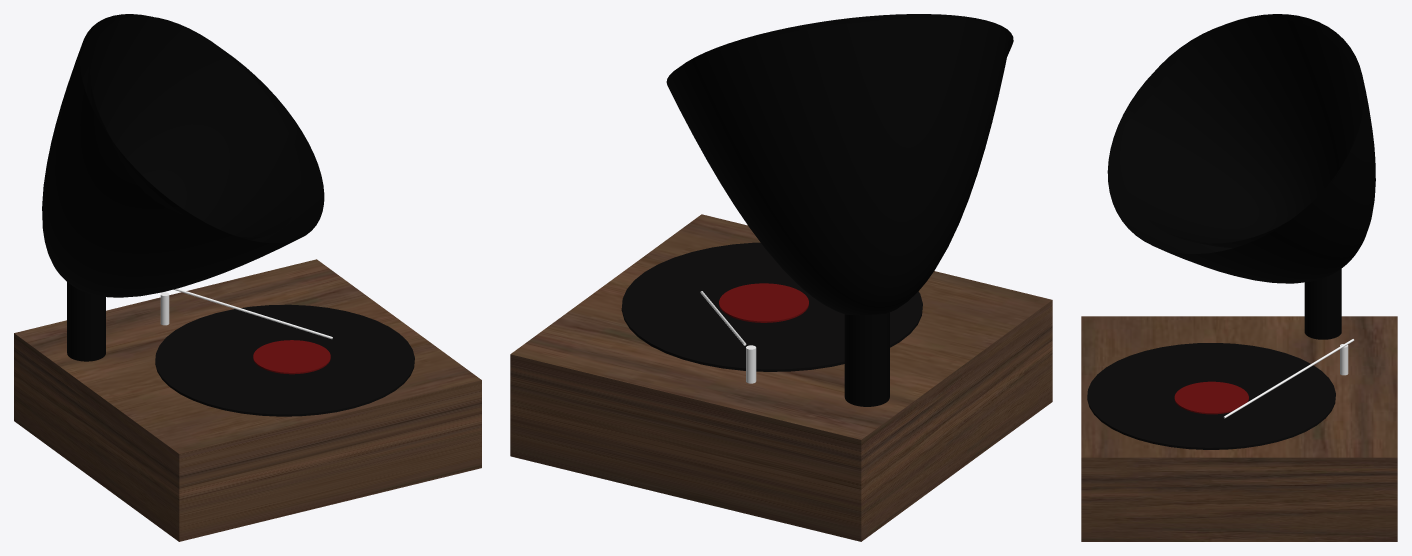
The model's file is gramafon son.fbx.
The picture shows the model from 3 angles, left to right: view 1: azimuth 30°, elevation 25°; view 2: azimuth 150°, elevation 25°; view 3: azimuth 270°, elevation 25°; orthographic projection. The views are drawn at different scales.
Parts seen in each view (by area): view 1: Object_8, Object_1, Object_2, Object_7, Object_9, Object_6; view 2: Object_8, Object_2, Object_7, Object_9, Object_6, Object_1; view 3: Object_8, Object_1, Object_7, Object_2, Object_9, Object_6, Object_3.
Part boxes in pixels (x1,y1,x2,y2): Object_8: [14, 259, 481, 541]; Object_1: [86, 16, 301, 240]; Object_2: [42, 14, 324, 297]; Object_7: [155, 304, 414, 416]; Object_9: [67, 282, 105, 361]; Object_6: [253, 340, 330, 374]; Object_8: [510, 214, 1052, 541]; Object_2: [666, 18, 1007, 315]; Object_7: [621, 242, 922, 371]; Object_9: [844, 312, 889, 406]; Object_6: [719, 283, 808, 322]; Object_1: [669, 14, 1013, 80]; Object_8: [1081, 316, 1397, 541]; Object_1: [1120, 17, 1359, 248]; Object_7: [1087, 343, 1335, 449]; Object_2: [1107, 14, 1375, 283]; Object_9: [1304, 268, 1341, 339]; Object_6: [1174, 381, 1248, 414]; Object_3: [1223, 339, 1354, 418].
Size of the model in its own units: 19.21 by 17 by 23.36.
5 materials, 1 textured.
